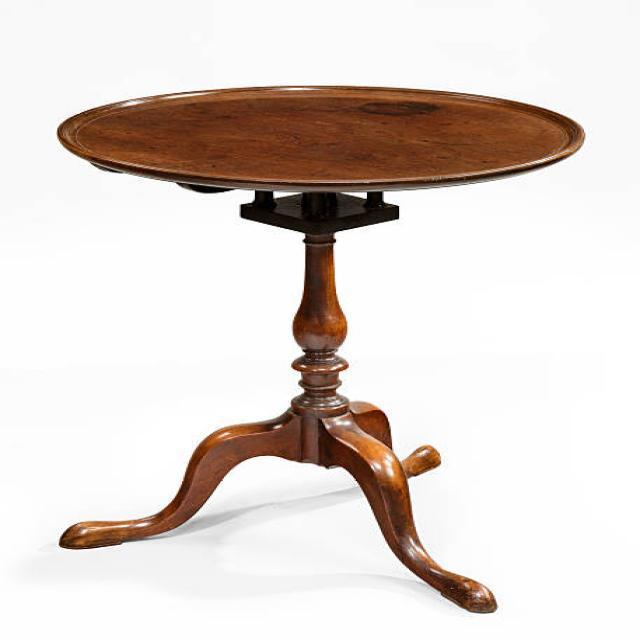table: (53, 84, 586, 614)
